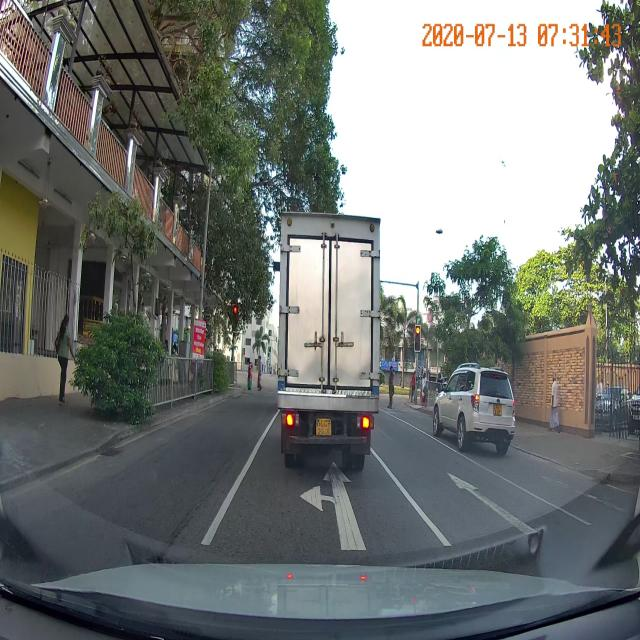forward_lft: (193, 448, 466, 549)
